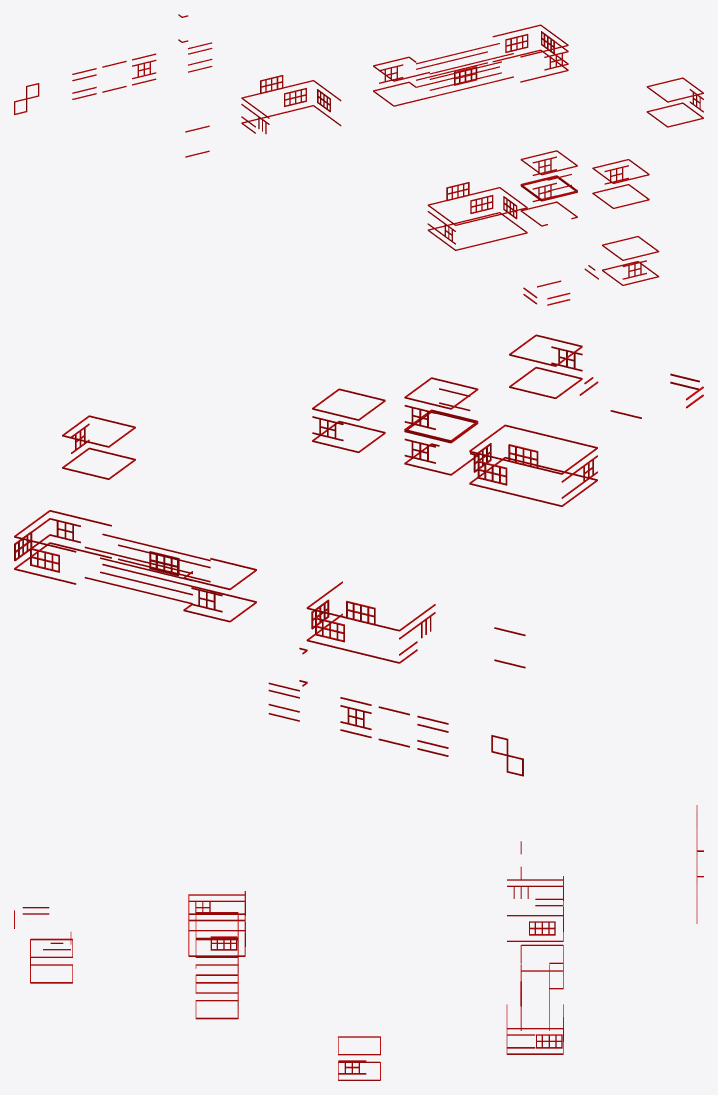
Rendered from object_15_lev2.glb.
3 renders of one model, top to bottom at view 1: azimuth 30°, elevation 25°; view 2: azimuth 150°, elevation 25°; view 3: azimuth 270°, elevation 25°, orthographic. The views are drawn at different scales.
Visible parts, largest first — view 1: object_15_lev2; view 2: object_15_lev2; view 3: object_15_lev2.
Part boxes in pixels (x1,y1,x2,y2): object_15_lev2: (14, 14, 703, 305); object_15_lev2: (14, 334, 703, 776); object_15_lev2: (14, 805, 703, 1080).
Size of the model in its own units: 59.39 by 6.34 by 67.83.
